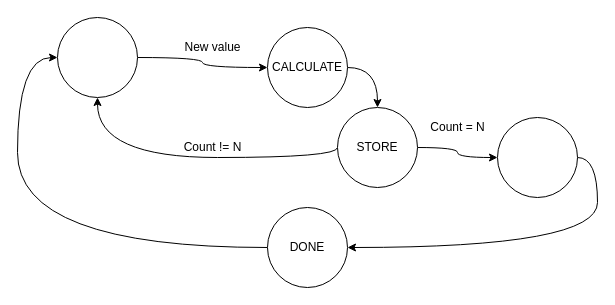
Image size: 615x305. Some labels were removed from this diagram. Here are the shapes that lost their labels. From the top down, the box of each, then its label:
(56, 16, 138, 98): IDLE
(496, 116, 578, 198): OUTPUT
